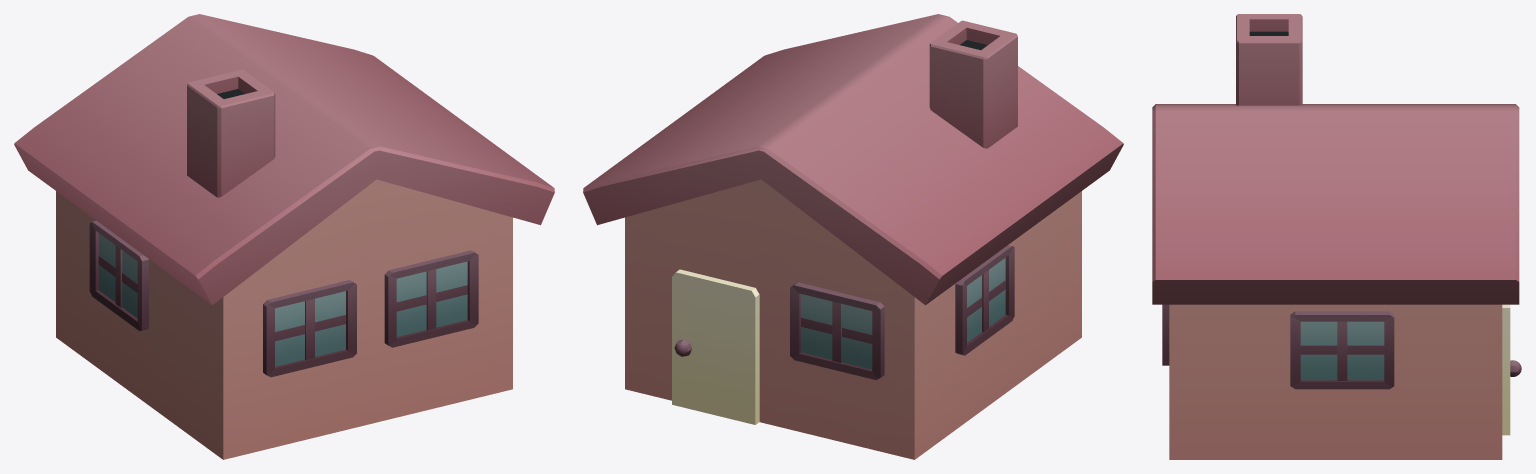
Rendered from housePinkDark.fbx.
3 views of the same model, side by side, from view 1: azimuth 30°, elevation 25°; view 2: azimuth 150°, elevation 25°; view 3: azimuth 270°, elevation 25° (orthographic).
Parts seen in each view (by area): view 1: HouseFuschia; view 2: HouseFuschia; view 3: HouseFuschia.
Boxes of the visible parts, x1,y1,x2,y2 form: HouseFuschia: [14, 14, 554, 459]; HouseFuschia: [583, 14, 1123, 459]; HouseFuschia: [1152, 14, 1521, 459].
Bounding box in the file's own units: 6.2 × 5.3 × 5.55.
